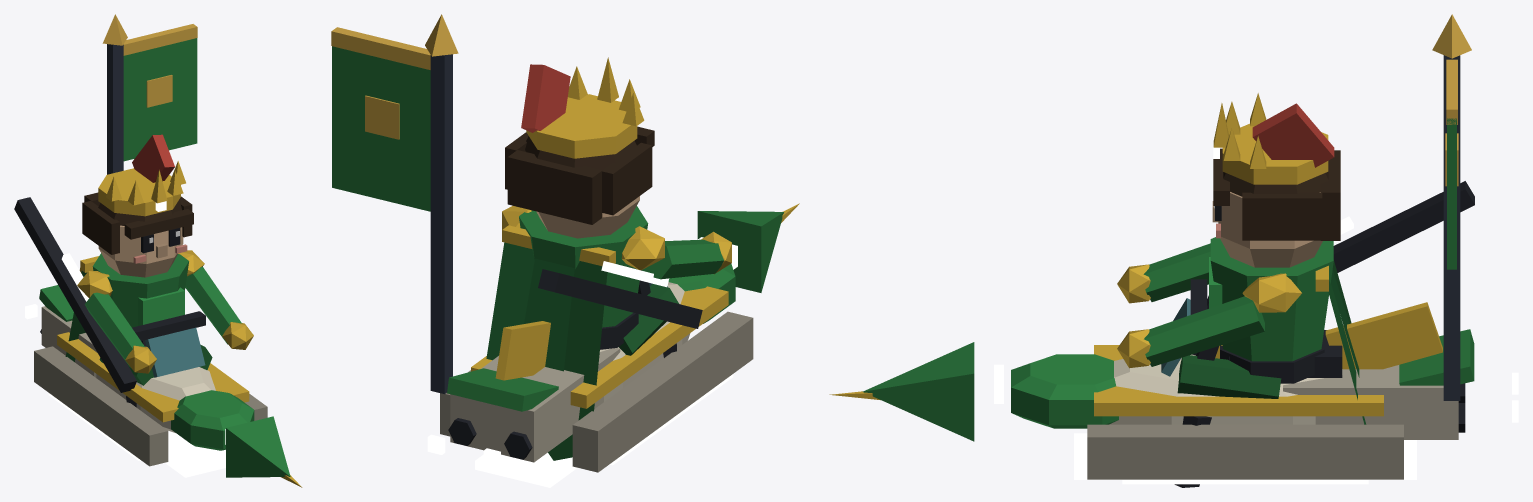
The model's file is hero_alexander.glb.
The picture shows the model from 3 angles, left to right: view 1: azimuth 30°, elevation 25°; view 2: azimuth 150°, elevation 25°; view 3: azimuth 270°, elevation 25°; orthographic projection. The views are drawn at different scales.
Parts seen in each view (by area): view 1: body, glow, arm_l, arm_r; view 2: body, glow, arm_l; view 3: body, arm_r, glow, arm_l.
Boxes of the visible parts, <box> form: body: <box>14,14,302,487</box>; glow: <box>25,201,225,477</box>; arm_l: <box>84,292,156,373</box>; arm_r: <box>185,266,253,349</box>; body: <box>331,14,799,472</box>; glow: <box>427,98,737,487</box>; arm_l: <box>642,231,731,279</box>; body: <box>829,14,1474,487</box>; arm_r: <box>1117,296,1264,368</box>; glow: <box>994,141,1518,484</box>; arm_l: <box>1117,243,1210,303</box>.
Bounding box in the file's own units: 0.8605 × 1.58 × 2.07.
